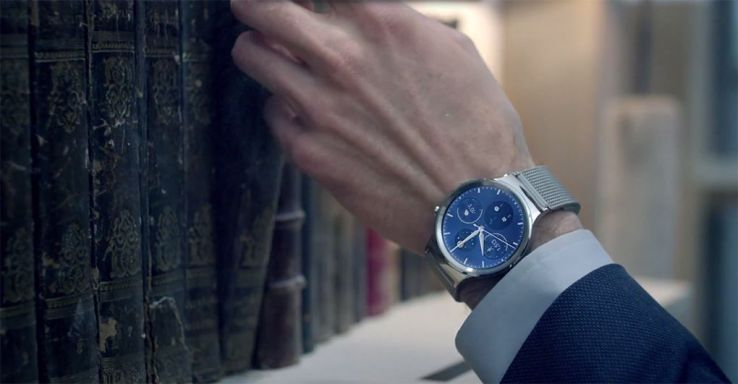clock: (439, 181, 532, 273)
